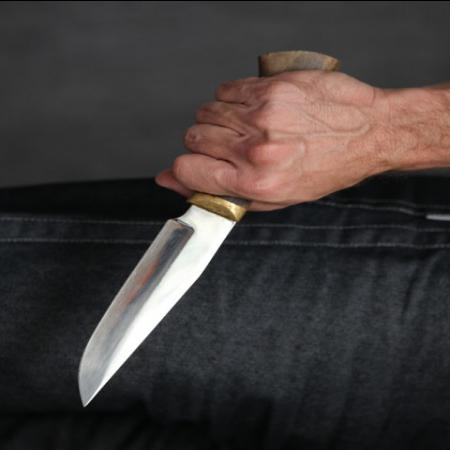long weapon: (63, 100, 299, 414)
